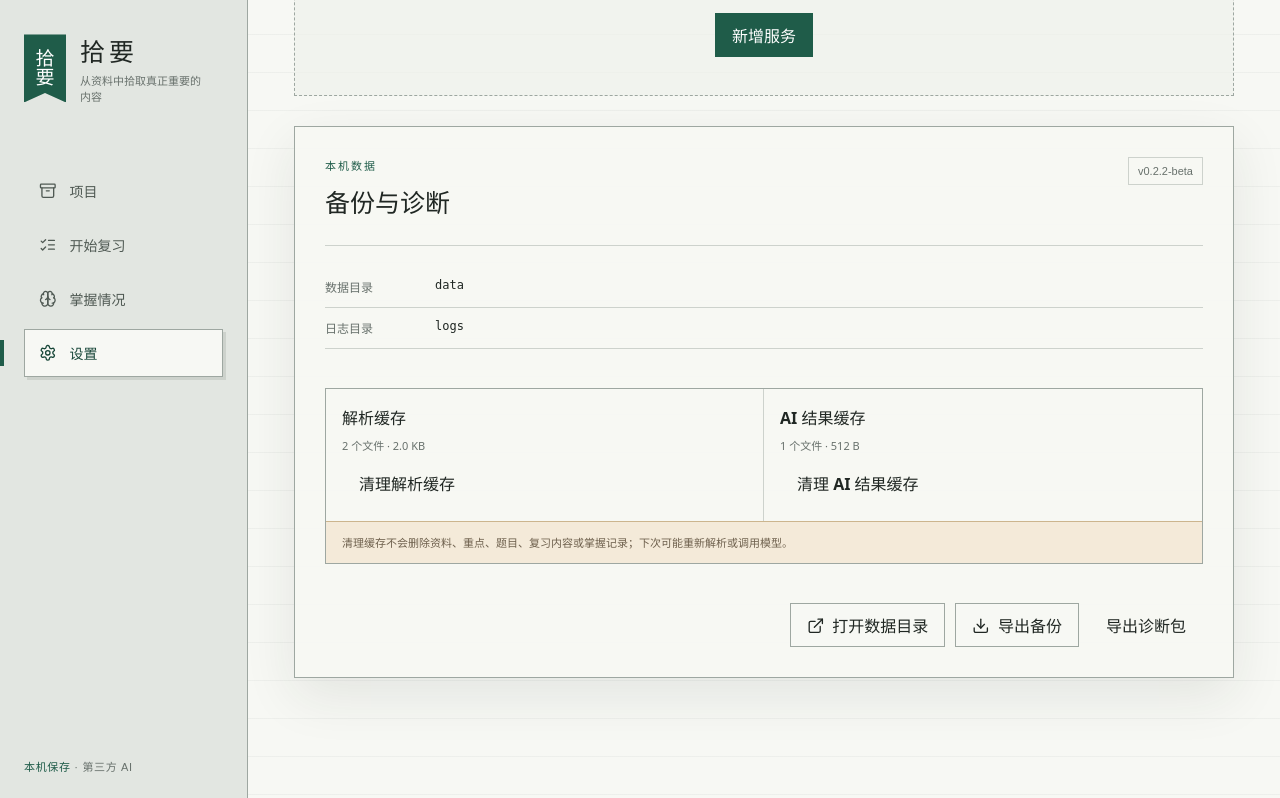
it: shows cache impact and sends exact byte confirmation before clearing
(page scrolled)
Click the button "清理解析缓存" at (407, 483), box [342, 461, 472, 505]
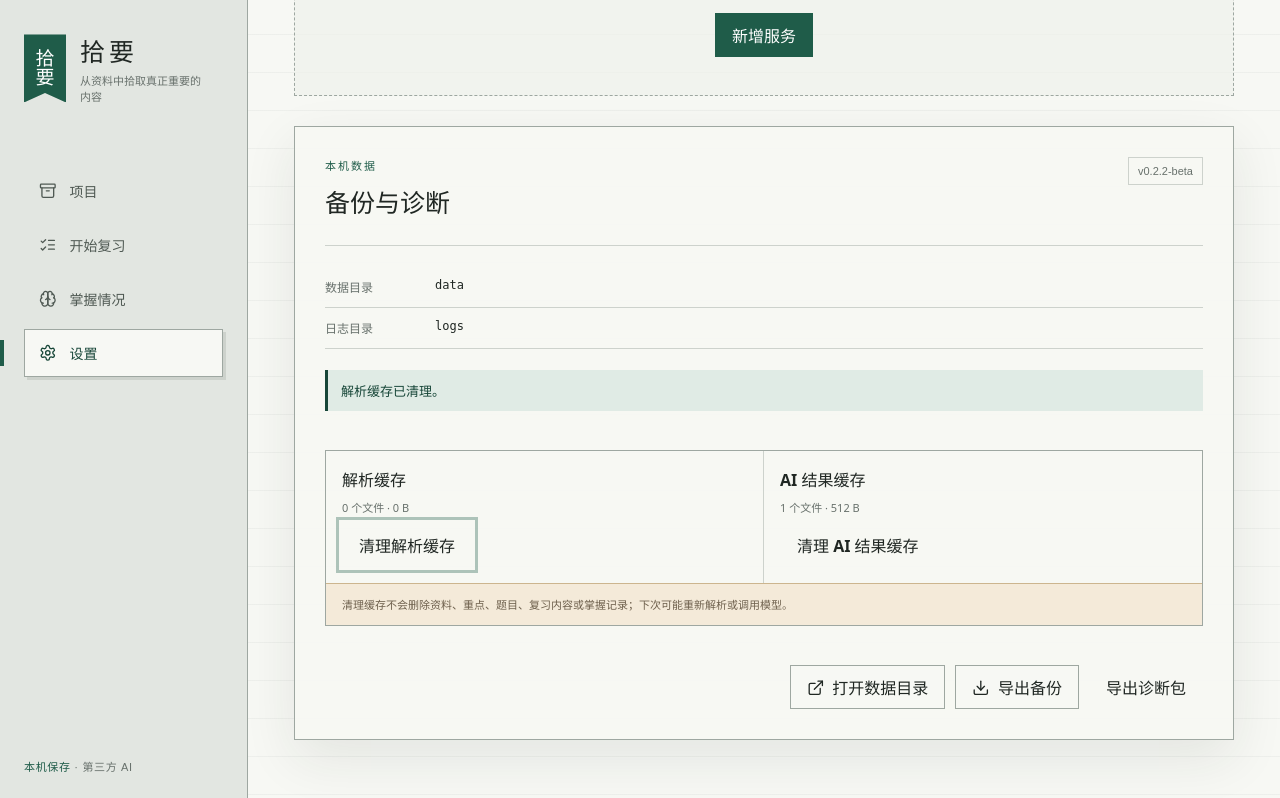
Check: the text "解析缓存已清理。" is shown, box [325, 370, 1203, 411]
